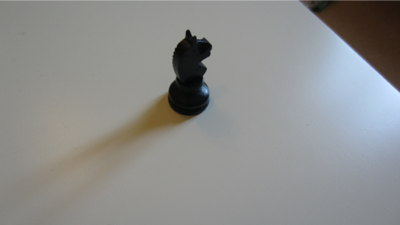black-knight: (166, 29, 215, 117)
